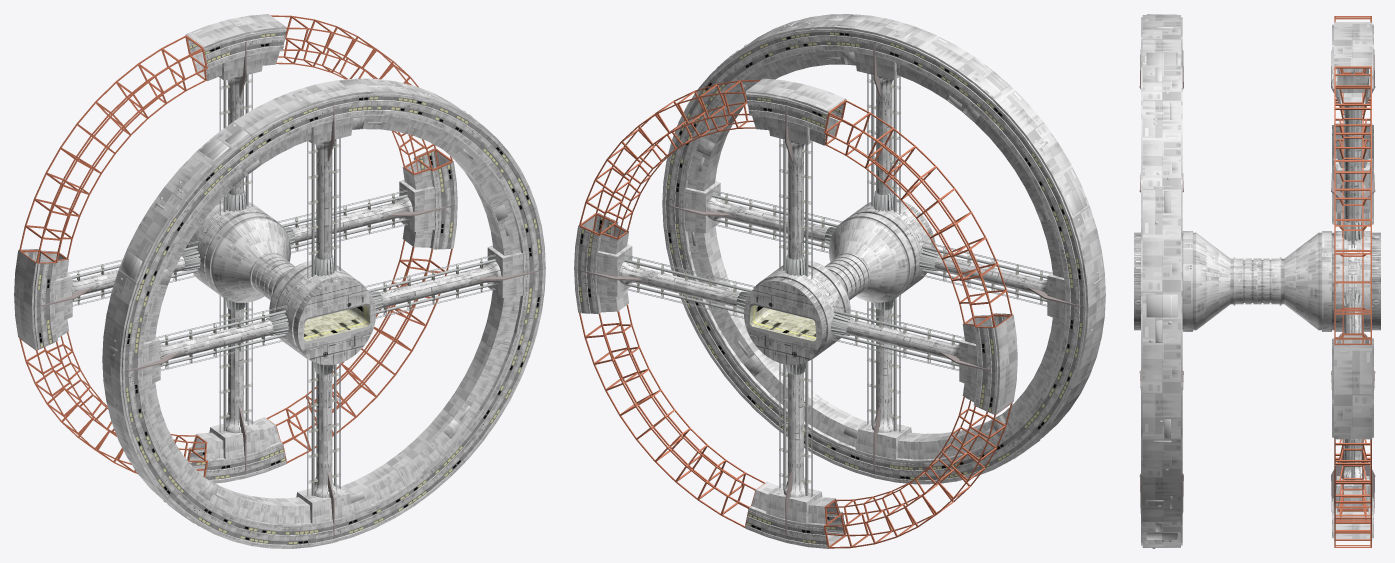
The picture shows the model from 3 angles, left to right: view 1: azimuth 30°, elevation 25°; view 2: azimuth 150°, elevation 25°; view 3: azimuth 270°, elevation 25°; orthographic projection. The views are drawn at different scales.
Parts seen in each view (by area): view 1: Wheel01, Mesh01_Material #26_0, Wheel_Gird, Cables01, Hub, Wheel02, Spoke03, Spoke02, Bay_Face_0, Spoke01, Spoke04, Blocks02 (+10 smaller); view 2: Wheel01, Mesh02_Material #26_0, Wheel_Gird, Cables01, Hub, Wheel02, Spoke03, Bay_Face_1, Spoke02, Spoke01, Spoke04, Blocks02 (+10 smaller); view 3: Wheel01, Hub, Wheel02, Wheel_Gird, Spoke01, Spoke_Supp, Cables01, Blocks04, Blocks01, Spoke03, Blocks03, Spoke02.
Boxes of the visible parts, bbox=[...] form: Wheel01: bbox=[102, 78, 545, 548]; Mesh01_Material #26_0: bbox=[122, 94, 544, 547]; Wheel_Gird: bbox=[19, 15, 452, 477]; Cables01: bbox=[67, 73, 495, 496]; Hub: bbox=[186, 199, 366, 361]; Wheel02: bbox=[14, 14, 457, 483]; Spoke03: bbox=[226, 302, 336, 497]; Spoke02: bbox=[288, 197, 501, 307]; Bay_Face_0: bbox=[298, 281, 375, 365]; Spoke01: bbox=[227, 75, 335, 274]; Spoke04: bbox=[72, 256, 287, 364]; Blocks02: bbox=[399, 179, 523, 297]; Wheel01: bbox=[662, 14, 1105, 484]; Mesh02_Material #26_0: bbox=[663, 29, 1085, 482]; Wheel_Gird: bbox=[579, 80, 1012, 548]; Cables01: bbox=[624, 73, 1051, 496]; Hub: bbox=[753, 199, 935, 361]; Wheel02: bbox=[574, 78, 1017, 548]; Spoke03: bbox=[783, 302, 893, 497]; Bay_Face_1: bbox=[744, 281, 822, 364]; Spoke02: bbox=[619, 197, 831, 307]; Spoke01: bbox=[784, 75, 892, 274]; Spoke04: bbox=[832, 254, 1047, 364]; Blocks02: bbox=[596, 181, 720, 296]; Wheel01: bbox=[1141, 14, 1182, 548]; Hub: bbox=[1134, 231, 1380, 331]; Wheel02: bbox=[1332, 22, 1373, 540]; Wheel_Gird: bbox=[1334, 16, 1371, 547]; Spoke01: bbox=[1344, 106, 1361, 239]; Spoke_Supp: bbox=[1139, 49, 1375, 513]; Cables01: bbox=[1342, 69, 1364, 480]; Blocks04: bbox=[1333, 158, 1372, 213]; Blocks01: bbox=[1335, 68, 1372, 96]; Spoke03: bbox=[1340, 439, 1365, 480]; Blocks03: bbox=[1333, 476, 1372, 508]; Spoke02: bbox=[1344, 295, 1361, 333].
Bounding box in the file's own units: 24893 × 24929 × 11507.
Materials: 12 (8 with a texture image).
